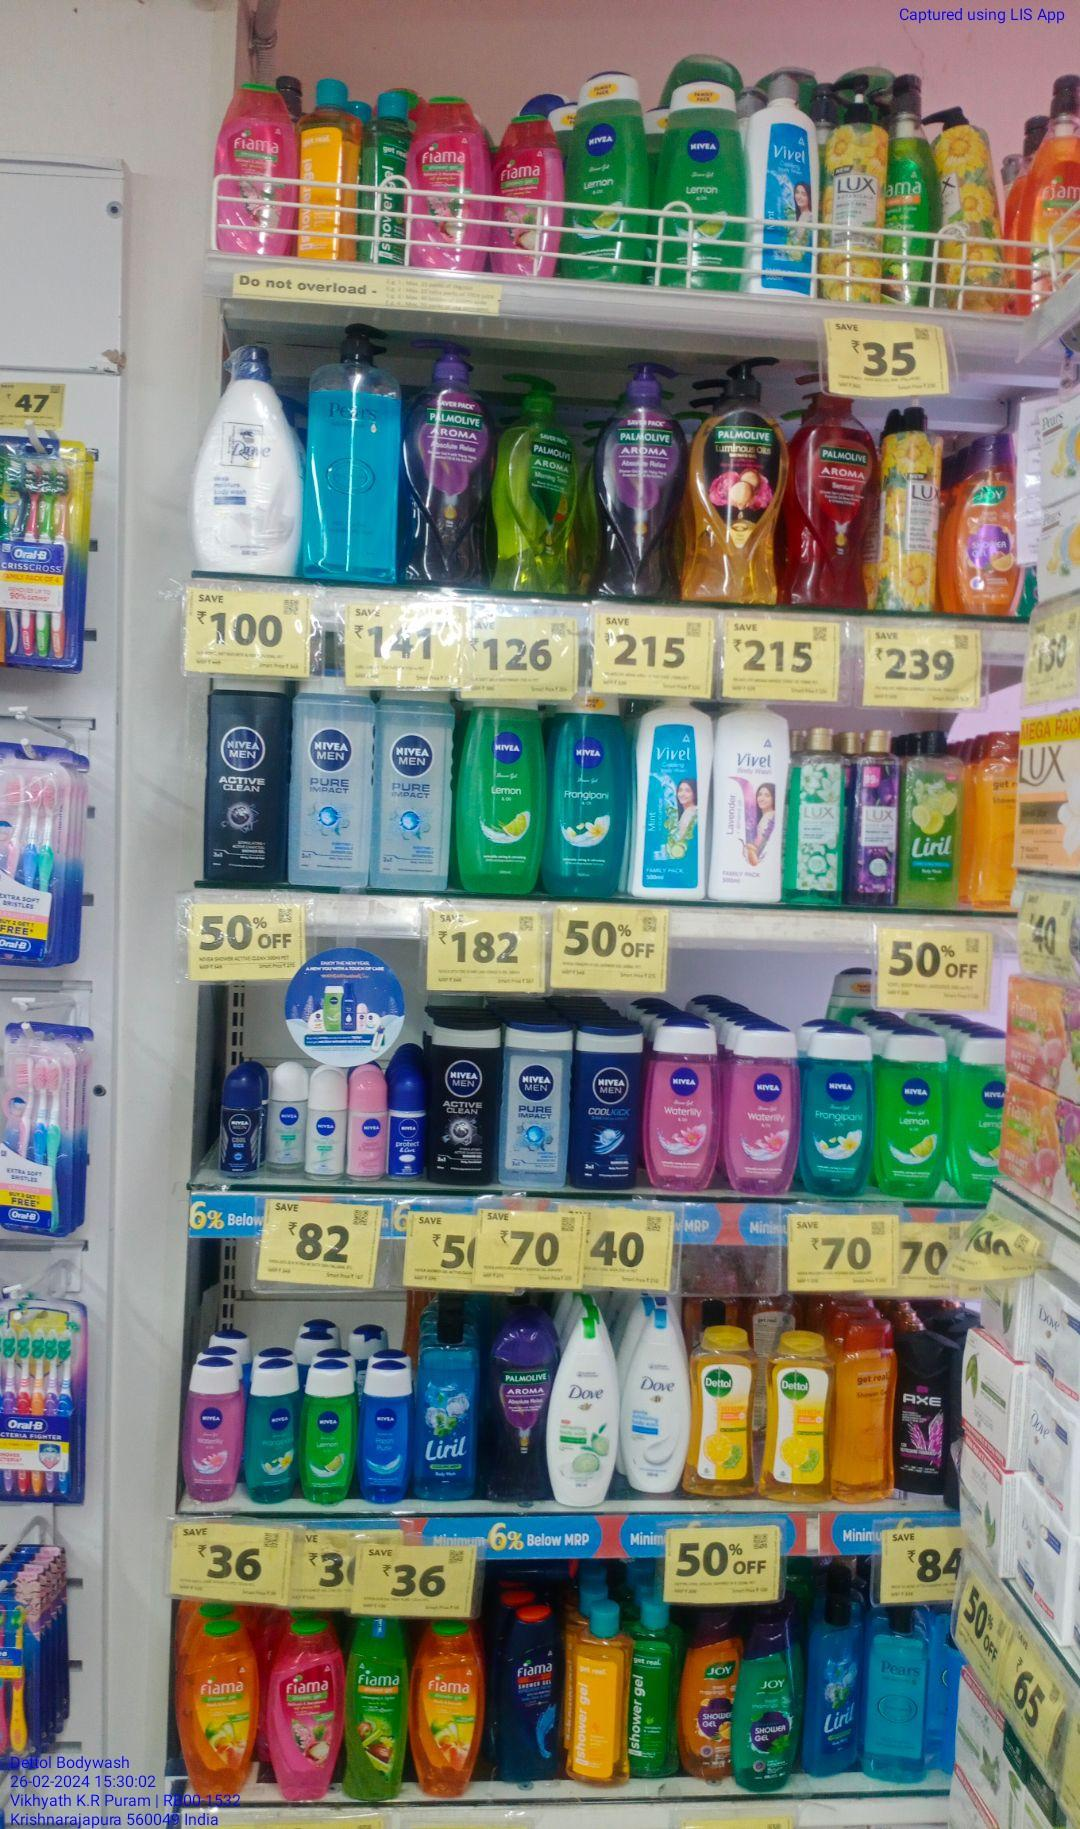Dettol_Bodywash_Refresh: (757, 1328, 829, 1506), (685, 1323, 755, 1499)
Dove_Gentle_Exfoliating_Body_Wash_250ML: (617, 1307, 684, 1494)
Dove_Refreshing_Body_Wash_250ML: (544, 1308, 615, 1506)
Fiama_Shower_Gel_Lemongrass_and_Jojoba_250ML: (343, 1616, 405, 1802)
Fiama_Shower_Gel_Patchouli_and_Macadamia_250ML: (405, 94, 489, 272), (213, 78, 294, 258), (265, 1616, 341, 1799), (491, 111, 561, 279)
Fiama_Shower_Gel_Peach_and_Avocado_250ML: (174, 1621, 258, 1799), (411, 1621, 486, 1798)
Get_Real_Shower_Gel_Moisturising_Glycerin_300ML: (833, 1324, 899, 1503)
Liril_Cooling_Mint_Body_Wash_250ML: (411, 1315, 481, 1497)
Liril_Lime_and_Tea_Tree_Oil_Body_Wash_250ML: (900, 729, 959, 906)
Nivea_Shower_Gel_Frangipani_and_Oil_250ML: (550, 690, 629, 896), (802, 1026, 870, 1195)
Nivea_Shower_Gel_Lemon_and_Oil_250ML: (647, 75, 746, 289), (458, 697, 545, 898), (564, 68, 648, 279), (874, 1030, 946, 1198), (301, 1362, 354, 1505)
Nivea_Shower_Gel_Waterlily_and_Oil_250ML: (724, 1023, 800, 1193), (645, 1019, 719, 1193), (185, 1356, 239, 1501)
